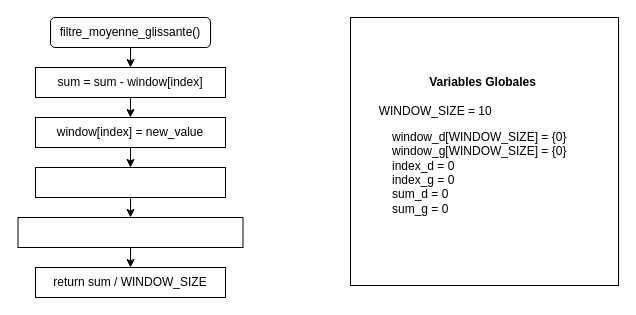
Some shapes in this 636 by 315 pixel diagram are drawn without their labels. Each missing label, with the centre of its shape:
"index = (index + 1) % WINDOW_SIZE" belongs at point 130,232.
"sum = sum + new_value" belongs at point 130,182.
